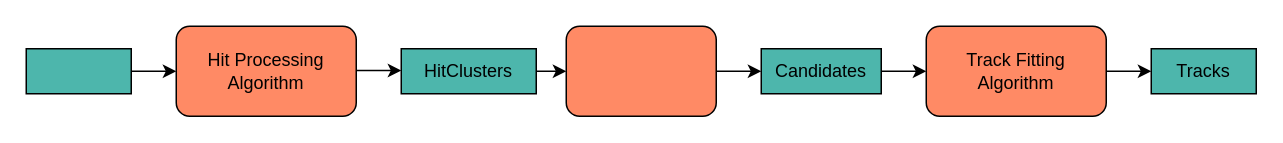
Image size: 1283x143. Some labels were removed from this diagram. The box of each missing label's shape, as (x1, y1, x2, y2) in pixels:
RawHits: (25, 47, 131, 94)
Track Finding Algorithm: (565, 25, 716, 116)
